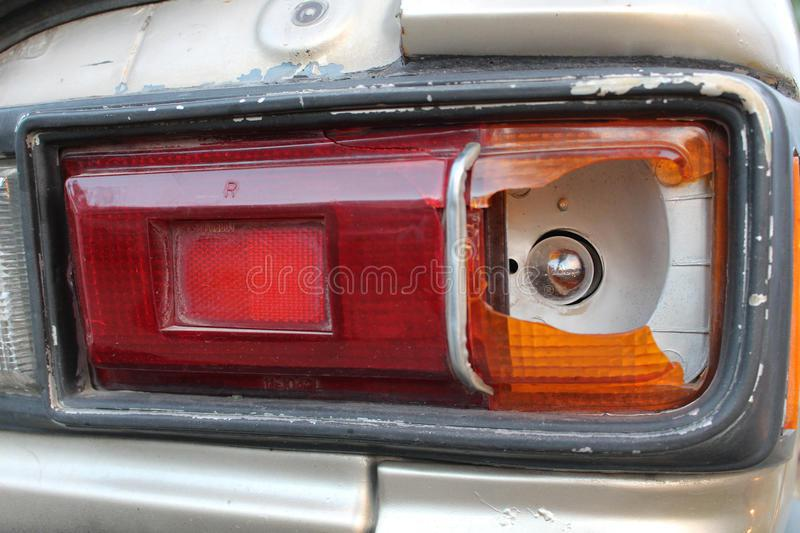Signlight-Damage: (429, 66, 773, 467)
